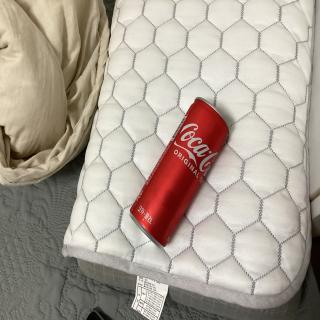cocacola: (122, 84, 244, 258)
